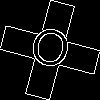O: (25, 25, 74, 79)
